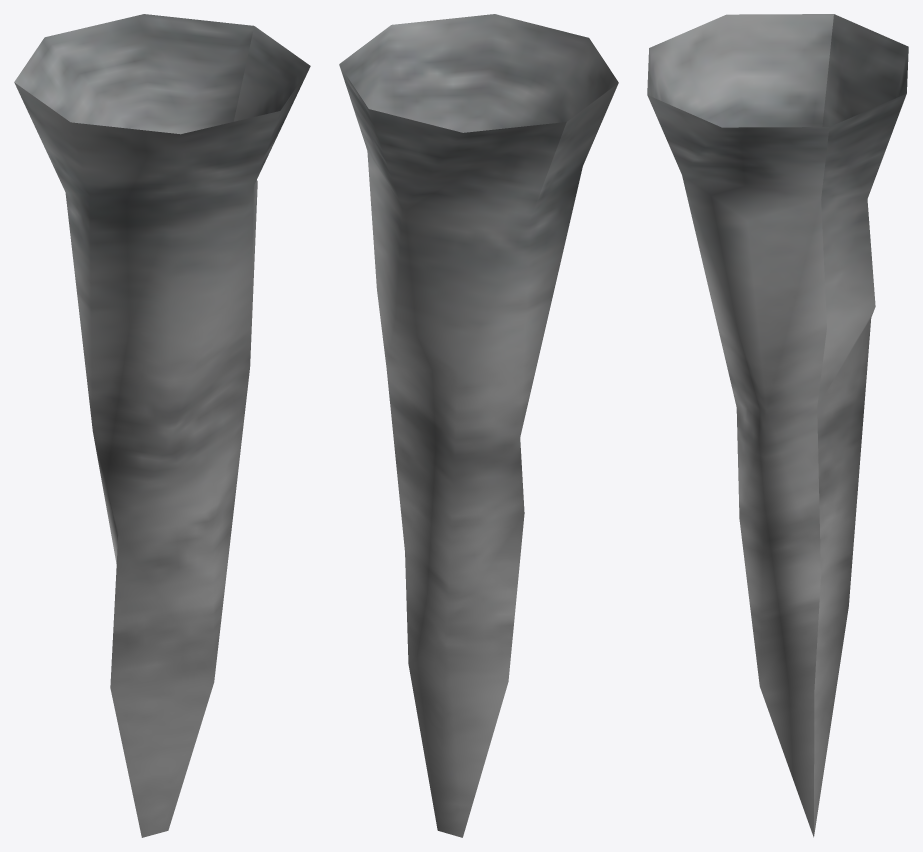
The model's file is snow_d_a05b.fbx.
The picture shows the model from 3 angles, left to right: view 1: azimuth 30°, elevation 25°; view 2: azimuth 150°, elevation 25°; view 3: azimuth 270°, elevation 25°; orthographic projection. The views are drawn at different scales.
Parts seen in each view (by area): view 1: d_a05b; view 2: d_a05b; view 3: d_a05b.
Boxes of the visible parts, x1,y1,x2,y2 form: d_a05b: (14, 14, 310, 837); d_a05b: (339, 14, 618, 837); d_a05b: (647, 14, 908, 837).
Size of the model in its own units: 32.03 by 99.48 by 31.17.
